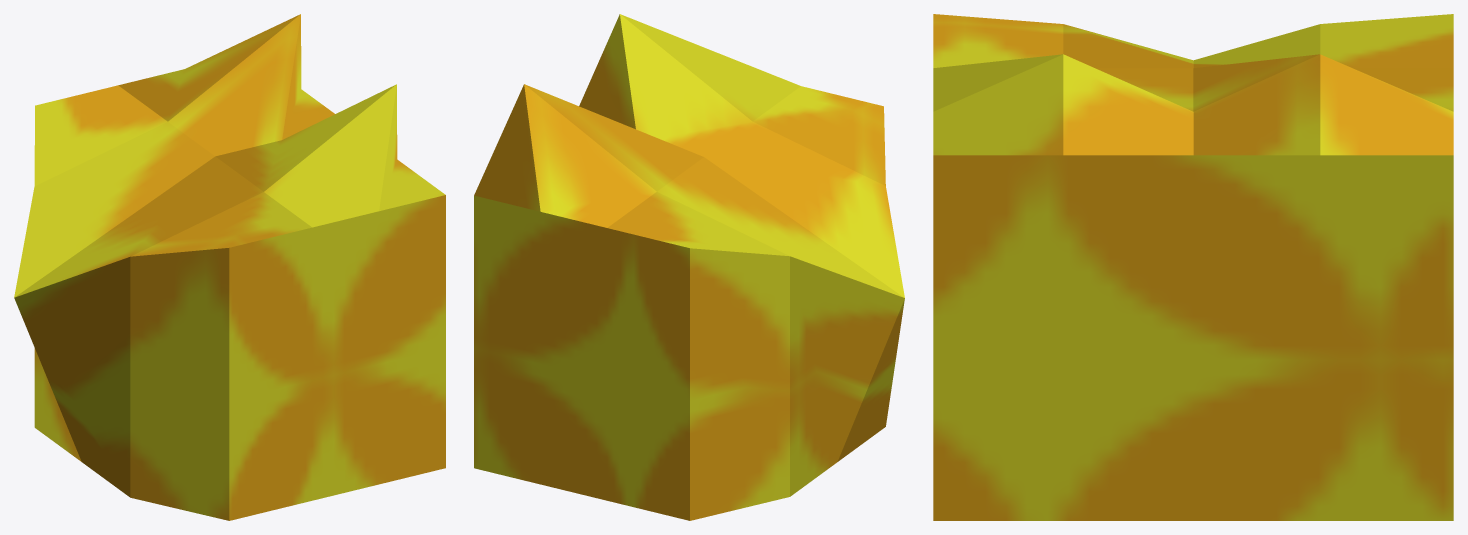
The model's file is playerOBJ.obj.
3 renders of one model, left to right at view 1: azimuth 30°, elevation 25°; view 2: azimuth 150°, elevation 25°; view 3: azimuth 270°, elevation 25°, orthographic. The views are drawn at different scales.
Parts seen in each view (by area): view 1: Cube; view 2: Cube; view 3: Cube.
Boxes of the visible parts, x1,y1,x2,y2 form: Cube: (14,14,445,520); Cube: (474,14,904,520); Cube: (933,14,1453,520).
Size of the model in its own units: 1.99 by 1.98 by 2.
Materials: 1 (1 with a texture image).
